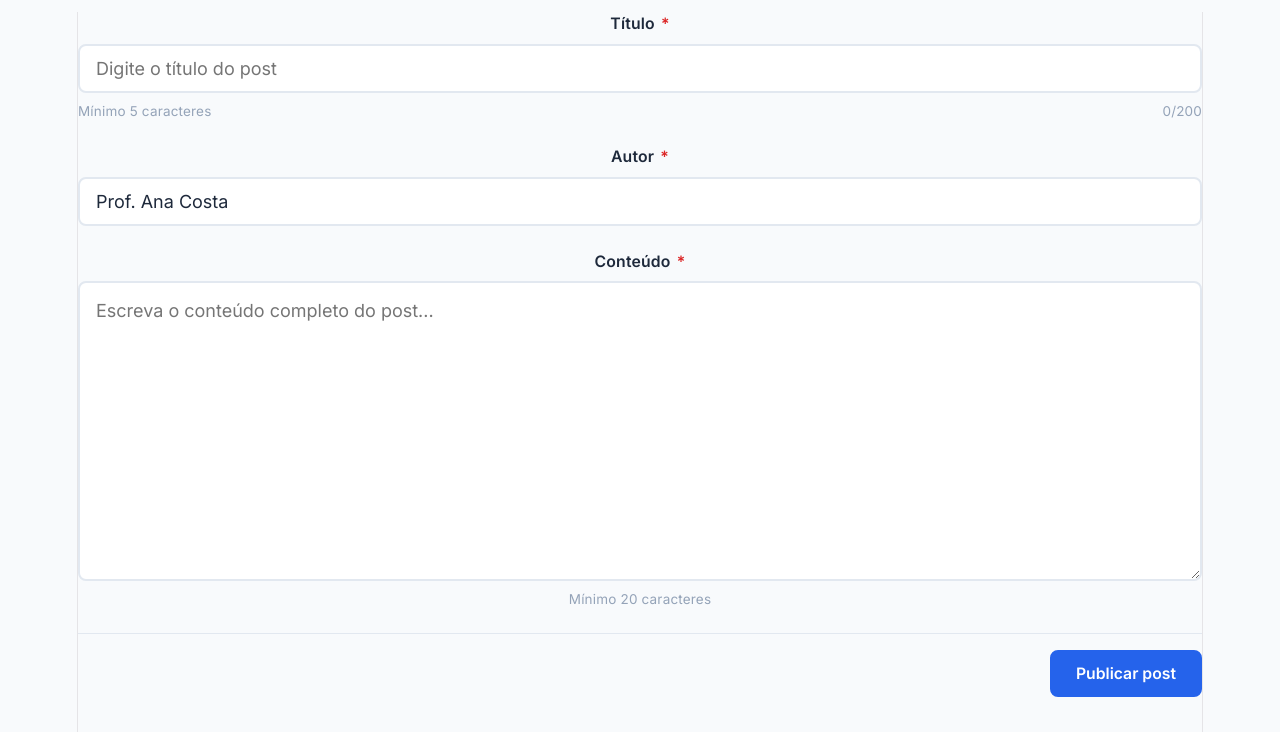
Test: PostForm › should show validation errors when submitting empty form
// Clear the author field first
Clear the field labelled "Autor *" at (640, 201), box [78,176,1202,226]
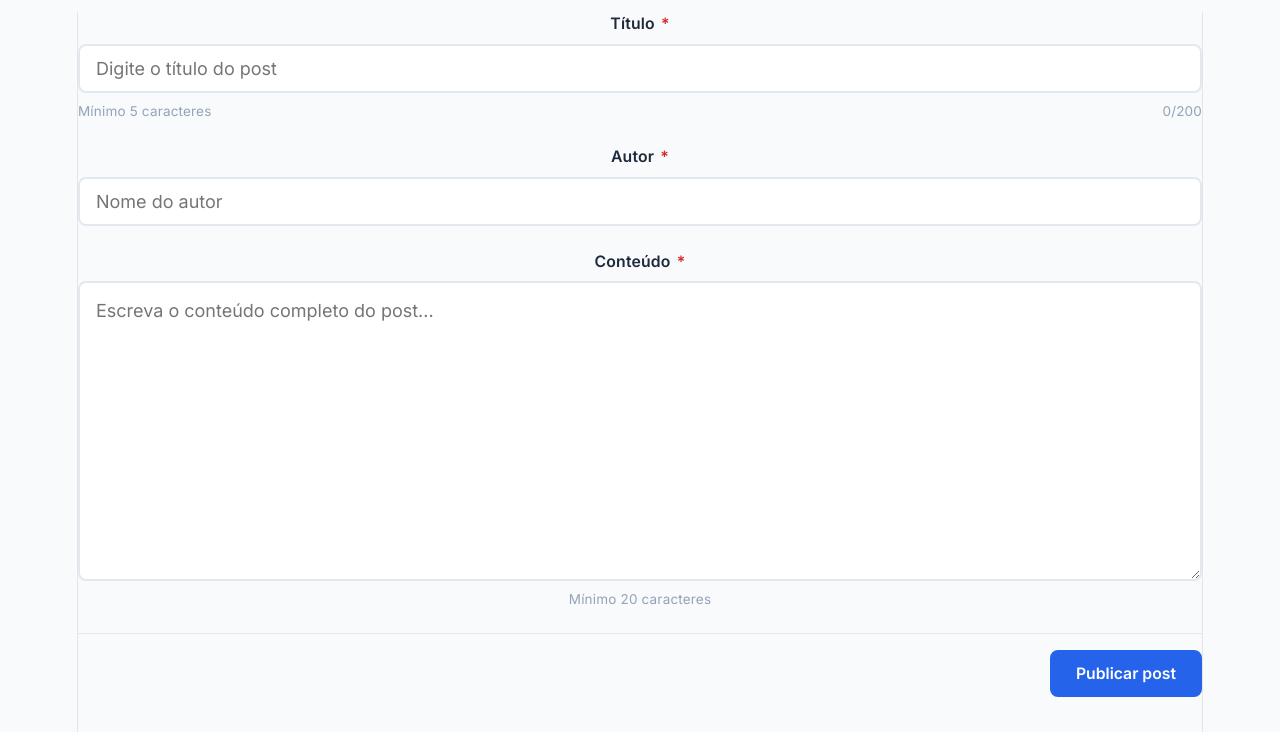
Click the button "Publicar post" at (1126, 674), box [1050,650,1202,697]
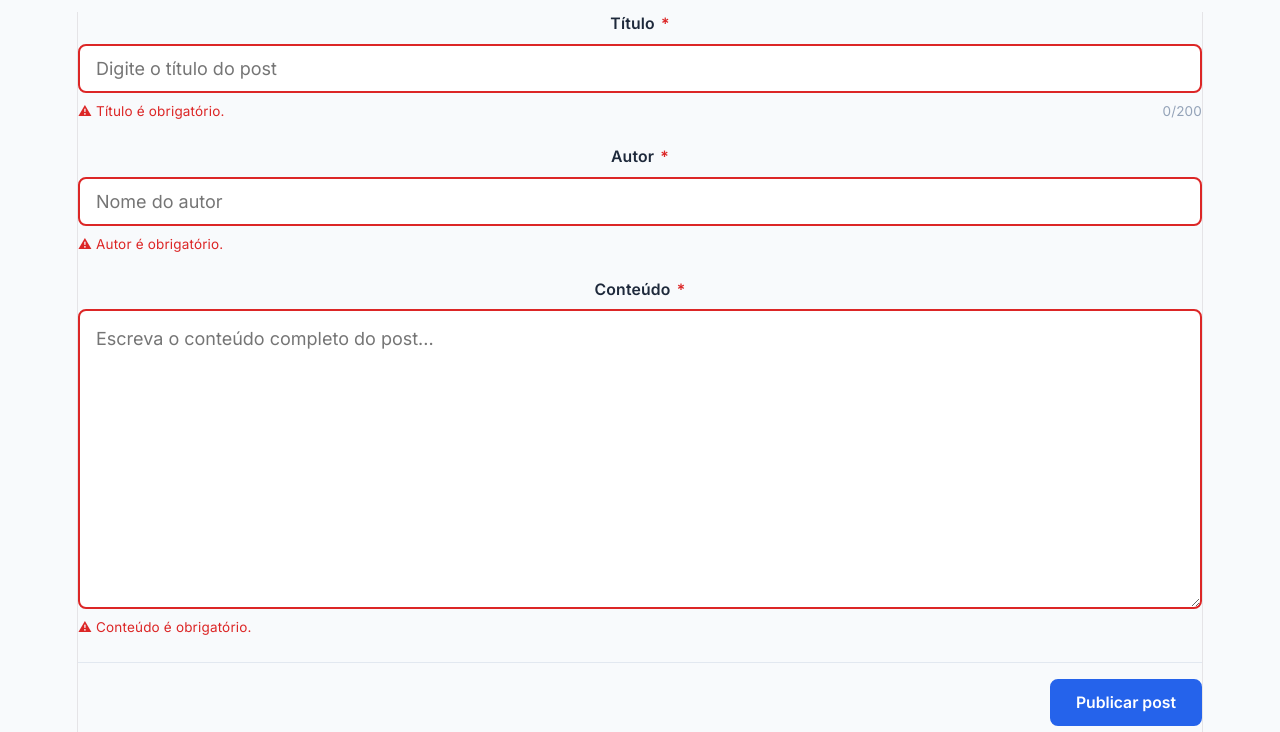
Check: the text "⚠ Título é obrigatório." is shown, box [78,101,224,121]
